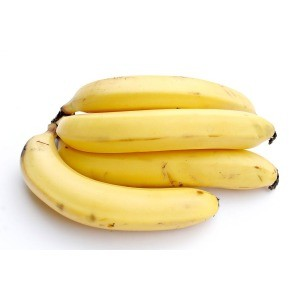banana_brain food: (51, 104, 218, 183)
